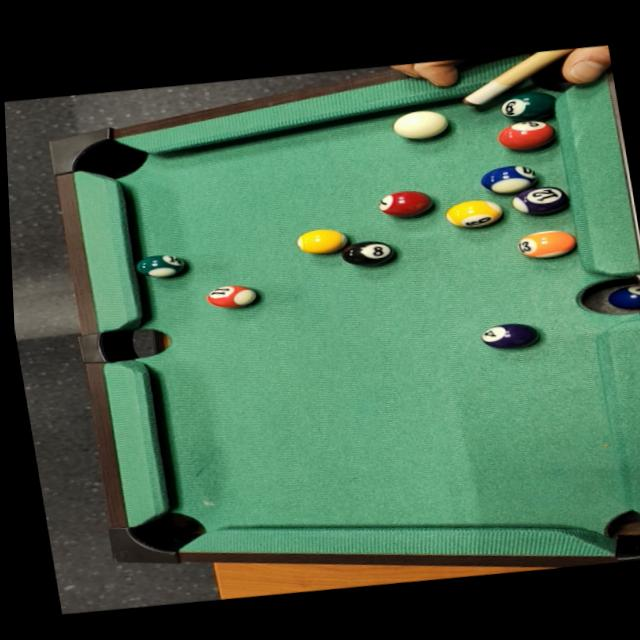cue ball: (384, 104, 453, 146)
other: (506, 181, 576, 221), (475, 159, 544, 199), (475, 318, 545, 354), (494, 115, 560, 153), (370, 184, 436, 222), (496, 86, 563, 123), (337, 235, 401, 273), (512, 226, 577, 263), (441, 196, 506, 231), (288, 223, 351, 257), (129, 249, 192, 282), (206, 279, 261, 313)
